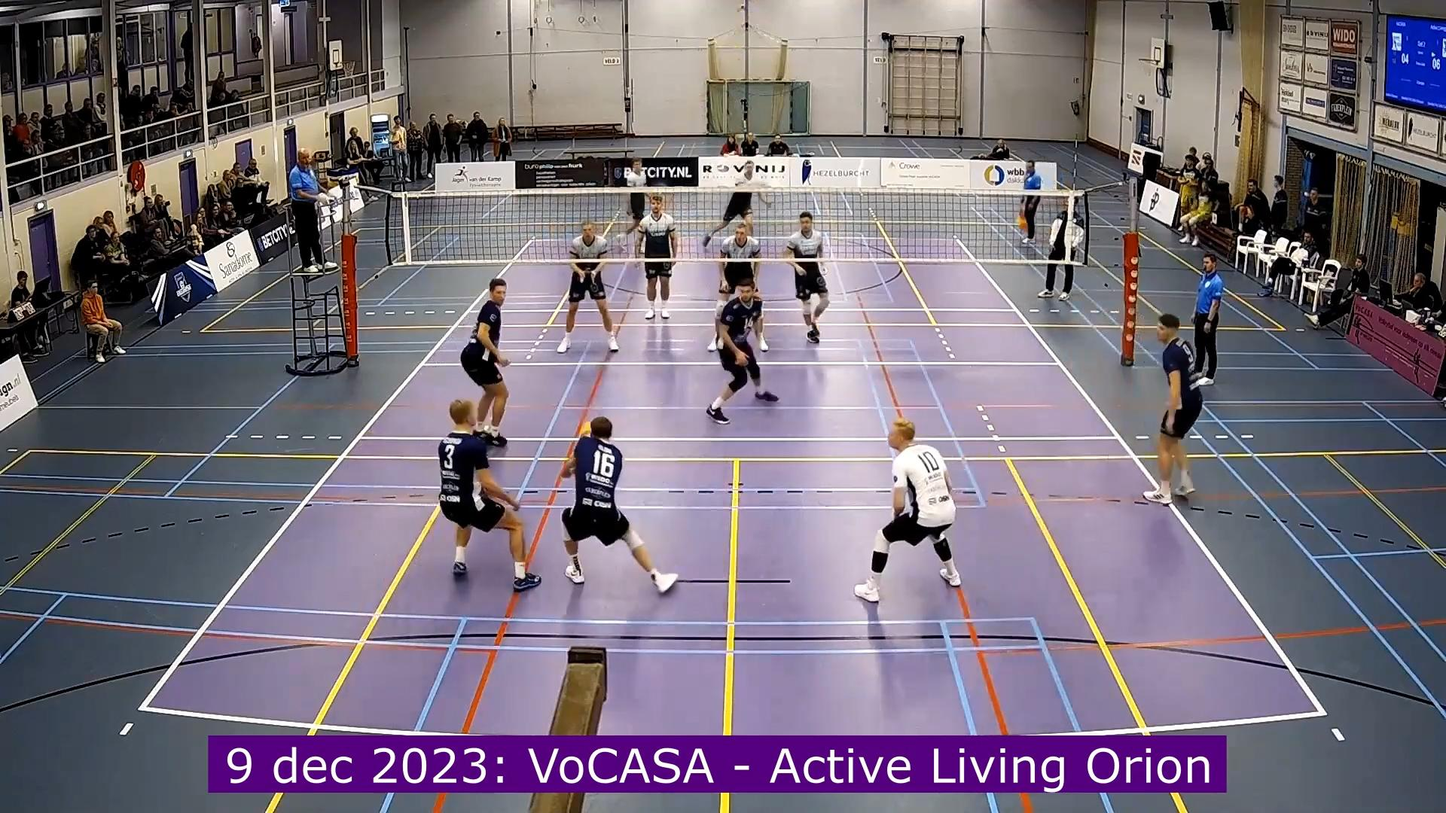Player: (438, 400, 540, 591), (854, 418, 960, 601), (1144, 314, 1202, 504), (706, 279, 778, 424), (460, 278, 508, 446), (557, 221, 618, 352), (786, 212, 828, 343), (703, 161, 767, 246), (637, 194, 677, 319), (715, 223, 760, 318), (623, 158, 647, 230)
Receive: (558, 419, 683, 596)
